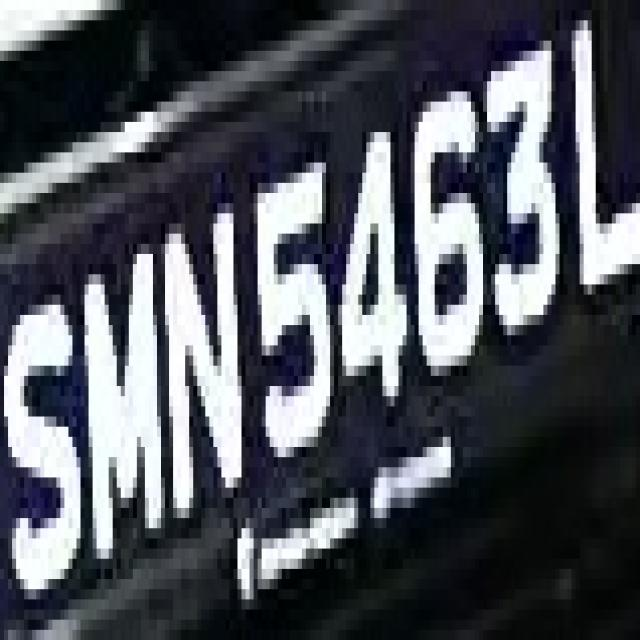3: (479, 10, 559, 366)
4: (318, 92, 411, 457)
5: (242, 122, 342, 488)
6: (407, 61, 479, 437)
L: (567, 10, 640, 315)
M: (81, 213, 165, 590)
N: (157, 162, 254, 548)
S: (8, 264, 89, 610)
